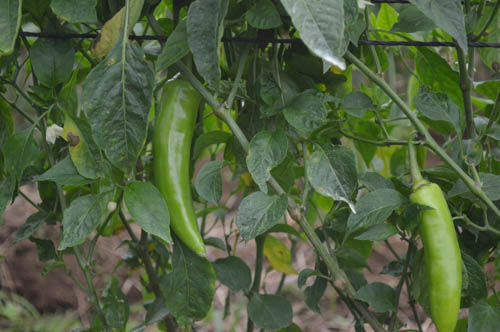ChiliPepper: (153, 81, 206, 253), (411, 182, 463, 331)
